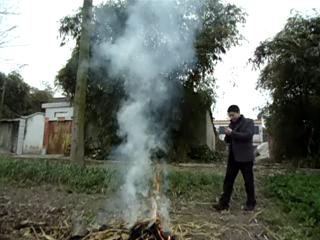smoke: (88, 1, 202, 217)
